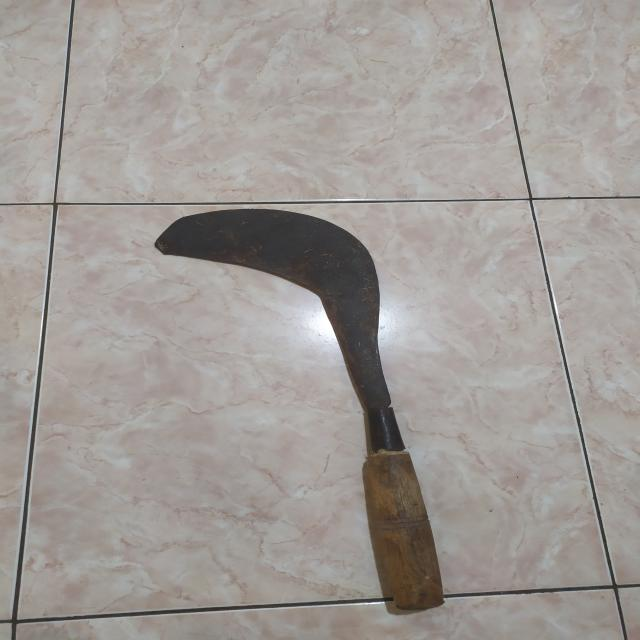Celurit: (157, 208, 449, 619)
